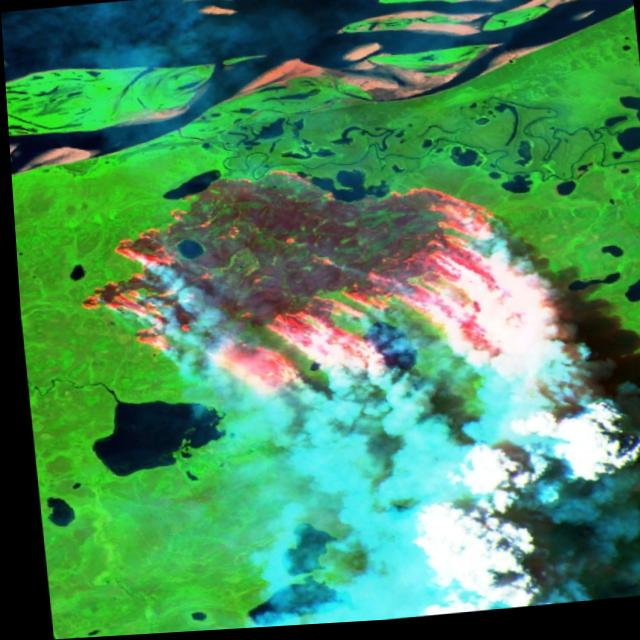fire: (58, 145, 525, 415)
